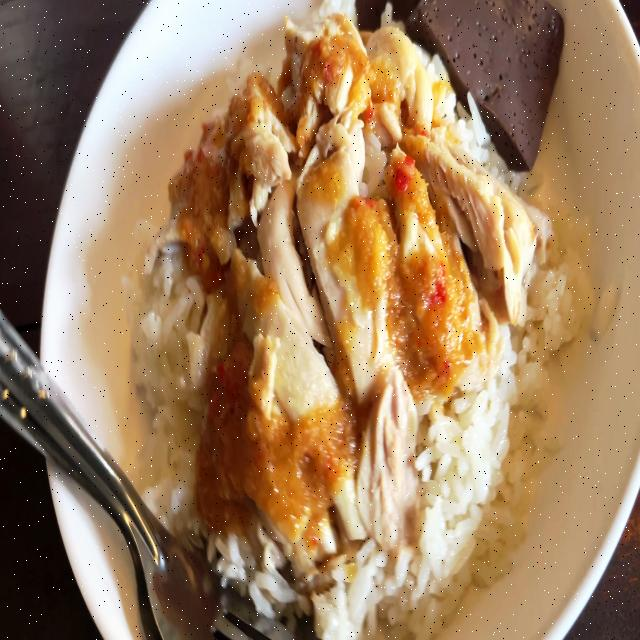boiled_chicken: (178, 18, 524, 532)
boiled_chicken_blood_jelly: (365, 0, 567, 164)
chicken_rice: (128, 0, 606, 640)
